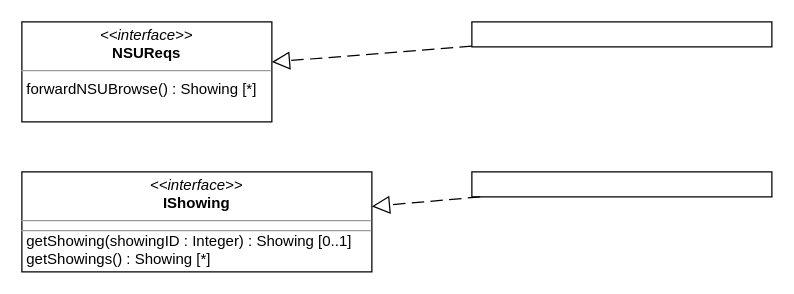
Some shapes in this 794 by 294 pixel diagram are drawn without their labels. Here are the shapes that lost their labels. From the top down, the centre of each, then its label:
At point 621,34: "NSUReqsPort of UDEK_Application".
At point 621,184: "ShowingPort of ShowingAdapter".
